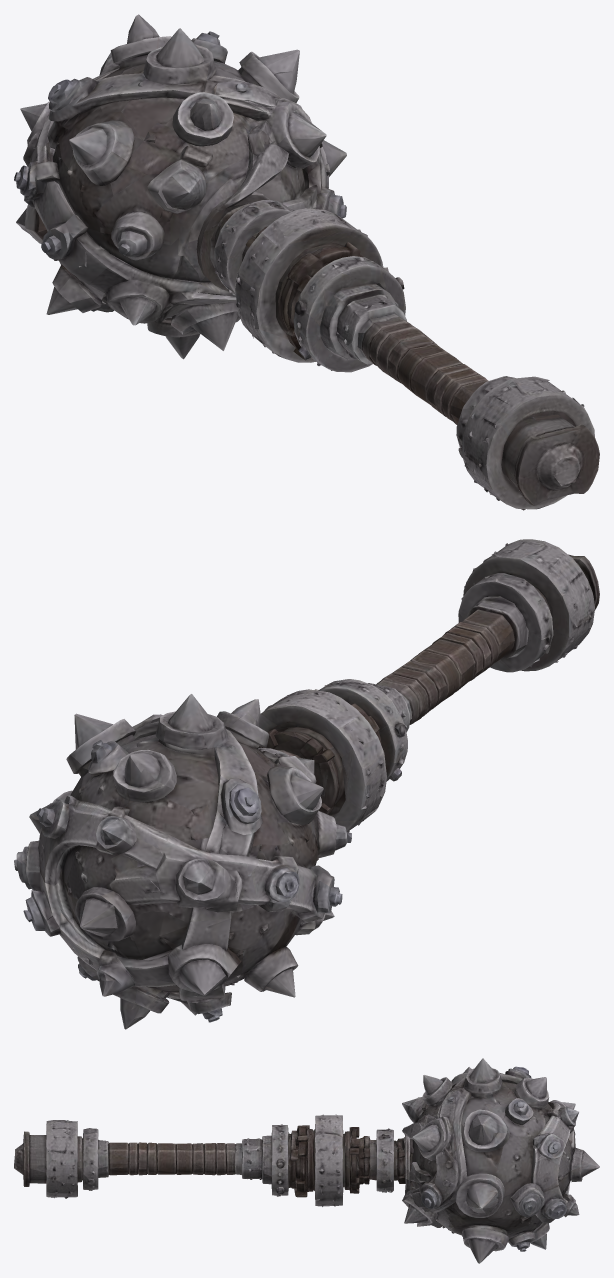
Rendered from mace.glb.
3 views of the same model, one above another, from view 1: azimuth 30°, elevation 25°; view 2: azimuth 150°, elevation 25°; view 3: azimuth 270°, elevation 25° (orthographic). The views are drawn at different scales.
Visible parts, largest first — view 1: Mesh_0; view 2: Mesh_0; view 3: Mesh_0.
Boxes of the visible parts, bbox=[...] form: Mesh_0: bbox=[14, 14, 599, 510]; Mesh_0: bbox=[14, 539, 599, 1029]; Mesh_0: bbox=[14, 1058, 599, 1263].
Size of the model in its own units: 0.7137 by 0.7229 by 1.92.
Materials: 1 (1 with a texture image).
